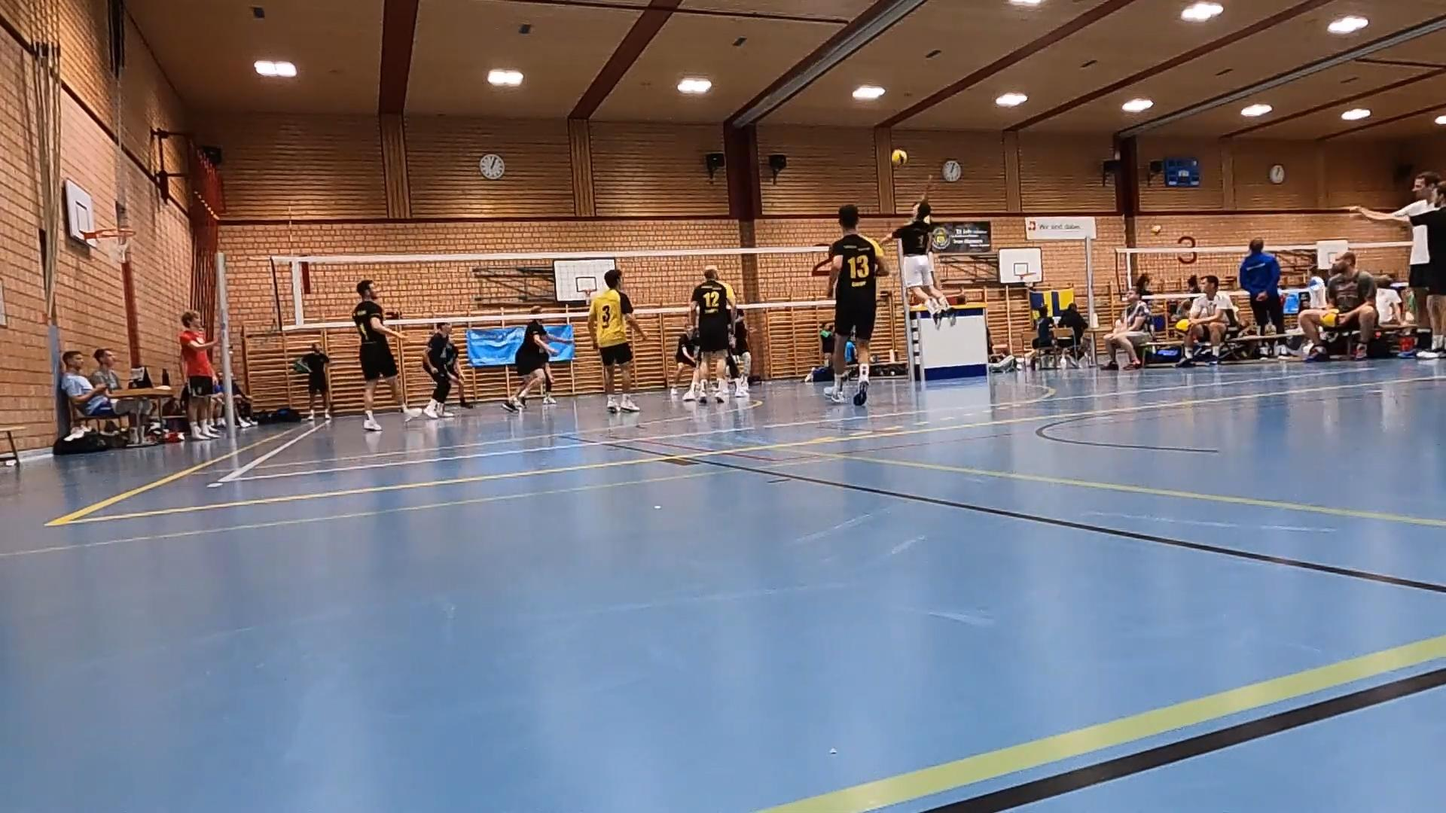attacco: (880, 174, 958, 328)
